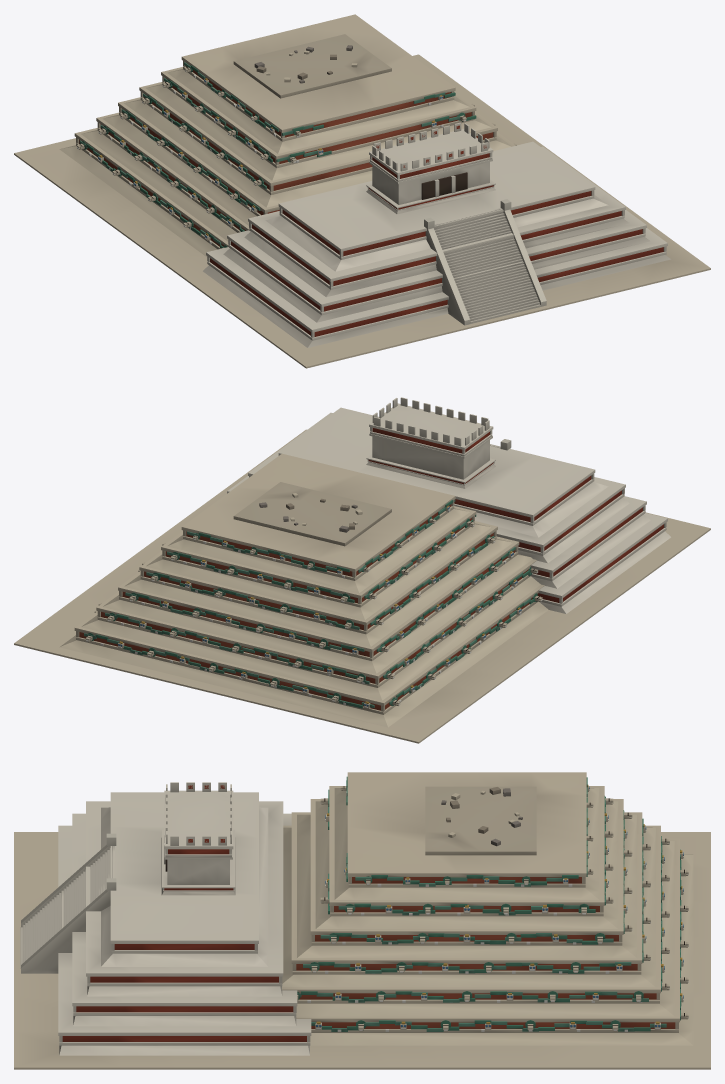
Rendered from temple-of-the-feathered-serpent-adosada.glb.
The picture shows the model from 3 angles, top to bottom: view 1: azimuth 30°, elevation 25°; view 2: azimuth 150°, elevation 25°; view 3: azimuth 270°, elevation 25°; orthographic projection. The views are drawn at different scales.
Visible parts, largest first — view 1: p1_pyramid, p2_temple, p0_ground; view 2: p1_pyramid, p0_ground, p2_temple; view 3: p1_pyramid, p0_ground, p2_temple.
Part boxes in pixels (bbox=[...]): p1_pyramid: bbox=[59, 14, 670, 347]; p2_temple: bbox=[233, 34, 546, 325]; p0_ground: bbox=[14, 54, 710, 368]; p1_pyramid: bbox=[59, 407, 670, 727]; p0_ground: bbox=[14, 429, 710, 743]; p2_temple: bbox=[233, 397, 511, 546]; p1_pyramid: bbox=[58, 772, 693, 1055]; p0_ground: bbox=[14, 832, 710, 1069]; p2_temple: bbox=[20, 782, 536, 973].
Size of the model in its own units: 80 by 22.52 by 100.
